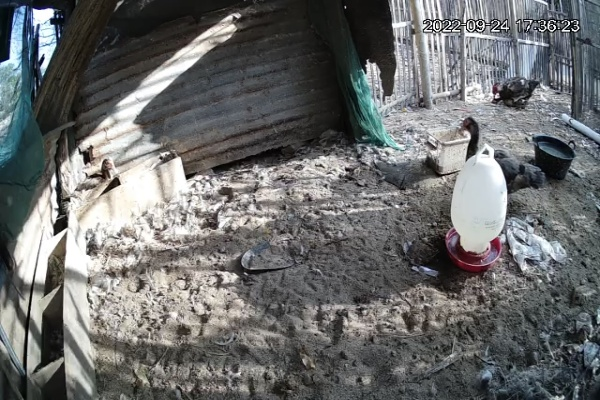Kawin: (486, 68, 548, 121)
